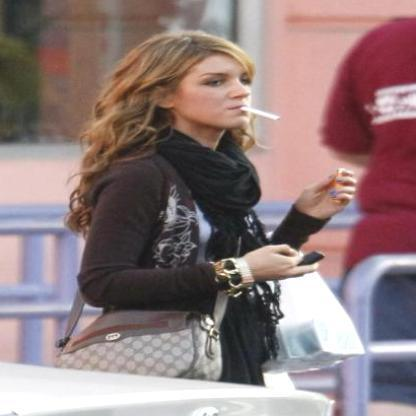cigarette: (234, 105, 285, 120)
person: (80, 30, 289, 384)
